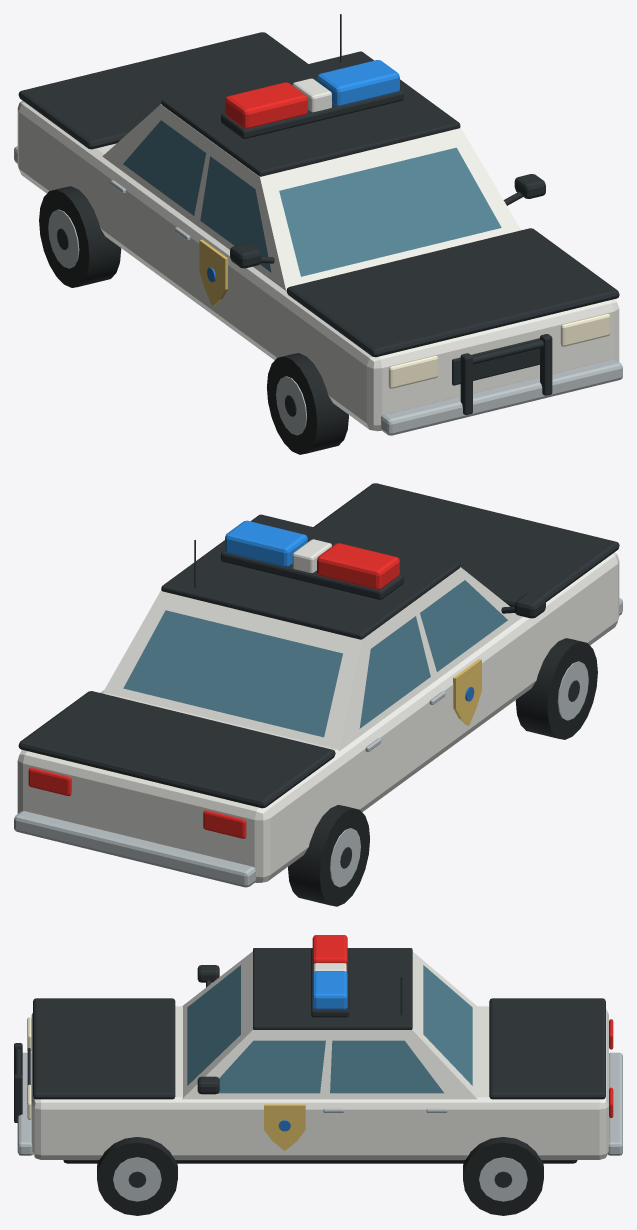
Rendered from vehicle_police_car.glb.
The picture shows the model from 3 angles, top to bottom: view 1: azimuth 30°, elevation 25°; view 2: azimuth 150°, elevation 25°; view 3: azimuth 270°, elevation 25°; orthographic projection. The views are drawn at different scales.
Visible parts, largest first — view 1: Police sedan body, Black hood, Police sedan cabin front windshield, Police sedan cabin shell, Black trunk lid, Black roof panel, Sedan front bumper, Left front wheel tire, Left rear wheel tire, Police sedan cabin side window 2, Police sedan cabin side window 1, Police roof lightbar red lamps (+14 smaller); view 2: Police sedan body, Black trunk lid, Police sedan cabin rear windshield, Black hood, Police sedan cabin shell, Black roof panel, Sedan rear bumper, Left front wheel tire, Left rear wheel tire, Police sedan cabin side window 2, Police sedan cabin side window 1, Police roof lightbar red lamps (+9 smaller); view 3: Police sedan body, Black hood, Black trunk lid, Black roof panel, Police sedan cabin shell, Police sedan cabin side window 2.001, Police sedan cabin side window 1.001, Police sedan cabin front windshield, Police sedan cabin rear windshield, Right front wheel tire, Right rear wheel tire, Generic police shield.001 (+10 smaller).
Part boxes in pixels (x1=…): Police sedan body: x1=17, y1=100, x2=619, y2=431; Black hood: x1=286, y1=228, x2=619, y2=357; Police sedan cabin front windshield: x1=279, y1=147, x2=501, y2=276; Police sedan cabin shell: x1=102, y1=104, x2=520, y2=290; Black trunk lid: x1=18, y1=32, x2=307, y2=149; Black roof panel: x1=161, y1=51, x2=460, y2=176; Sedan front bumper: x1=380, y1=359, x2=622, y2=435; Left front wheel tire: x1=267, y1=353, x2=348, y2=454; Left rear wheel tire: x1=39, y1=186, x2=121, y2=287; Police sedan cabin side window 2: x1=123, y1=120, x2=206, y2=215; Police sedan cabin side window 1: x1=200, y1=156, x2=271, y2=272; Police roof lightbar red lamps: x1=225, y1=82, x2=307, y2=128; Police sedan body: x1=17, y1=552, x2=619, y2=882; Black trunk lid: x1=18, y1=691, x2=335, y2=808; Police sedan cabin rear windshield: x1=123, y1=610, x2=342, y2=737; Black hood: x1=313, y1=483, x2=619, y2=606; Police sedan cabin shell: x1=102, y1=567, x2=522, y2=751; Black roof panel: x1=161, y1=514, x2=460, y2=639; Sedan rear bumper: x1=14, y1=811, x2=256, y2=887; Left front wheel tire: x1=515, y1=638, x2=597, y2=739; Left rear wheel tire: x1=288, y1=805, x2=369, y2=906; Police sedan cabin side window 2: x1=359, y1=616, x2=430, y2=728; Police sedan cabin side window 1: x1=420, y1=580, x2=507, y2=671; Police roof lightbar red lamps: x1=317, y1=543, x2=399, y2=589; Police sedan body: x1=31, y1=1006, x2=608, y2=1159; Black hood: x1=33, y1=998, x2=175, y2=1099; Black trunk lid: x1=489, y1=998, x2=605, y2=1099; Black roof panel: x1=253, y1=948, x2=412, y2=1029; Police sedan cabin shell: x1=182, y1=951, x2=476, y2=1099; Police sedan cabin side window 2.001: x1=330, y1=1040, x2=443, y2=1093; Police sedan cabin side window 1.001: x1=219, y1=1040, x2=325, y2=1093; Police sedan cabin front windshield: x1=187, y1=965, x2=240, y2=1085; Police sedan cabin rear windshield: x1=423, y1=965, x2=472, y2=1085; Right front wheel tire: x1=97, y1=1137, x2=177, y2=1215; Right rear wheel tire: x1=463, y1=1137, x2=543, y2=1215; Generic police shield.001: x1=264, y1=1104, x2=305, y2=1150.
Bounding box in the file's own units: 2.31 × 1.91 × 4.96.
